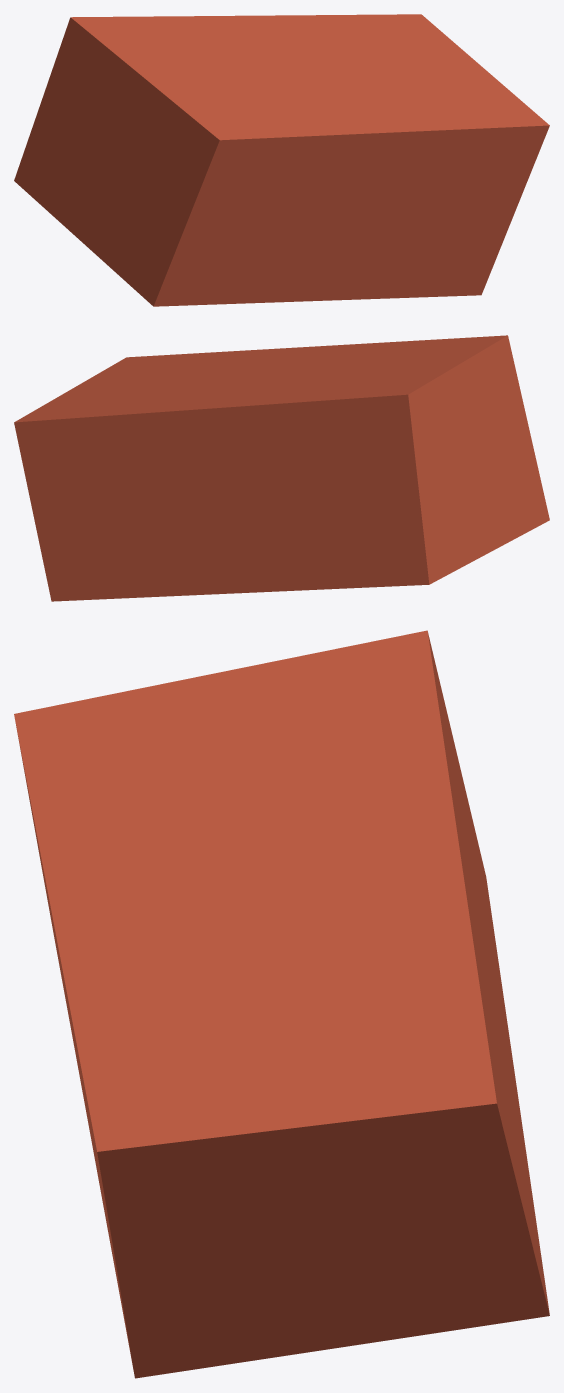
The model's file is unit_rubble_chunk.glb.
The picture shows the model from 3 angles, top to bottom: view 1: azimuth 30°, elevation 25°; view 2: azimuth 150°, elevation 25°; view 3: azimuth 270°, elevation 25°; orthographic projection. The views are drawn at different scales.
Visible parts, largest first — view 1: unit_rubble_chunk_rubble; view 2: unit_rubble_chunk_rubble; view 3: unit_rubble_chunk_rubble.
Part boxes in pixels (box(x1,y1,x2,y2)): unit_rubble_chunk_rubble: box(14, 14, 549, 306); unit_rubble_chunk_rubble: box(14, 335, 549, 601); unit_rubble_chunk_rubble: box(14, 630, 549, 1378).
Size of the model in its own units: 0.6164 by 0.4113 by 0.411.
